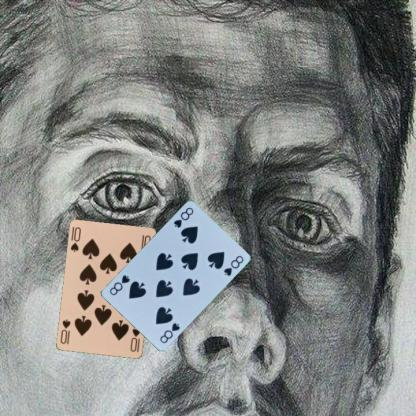10s: (128, 324, 142, 354), (68, 224, 82, 254)
8s: (171, 204, 195, 229), (157, 320, 182, 344)
